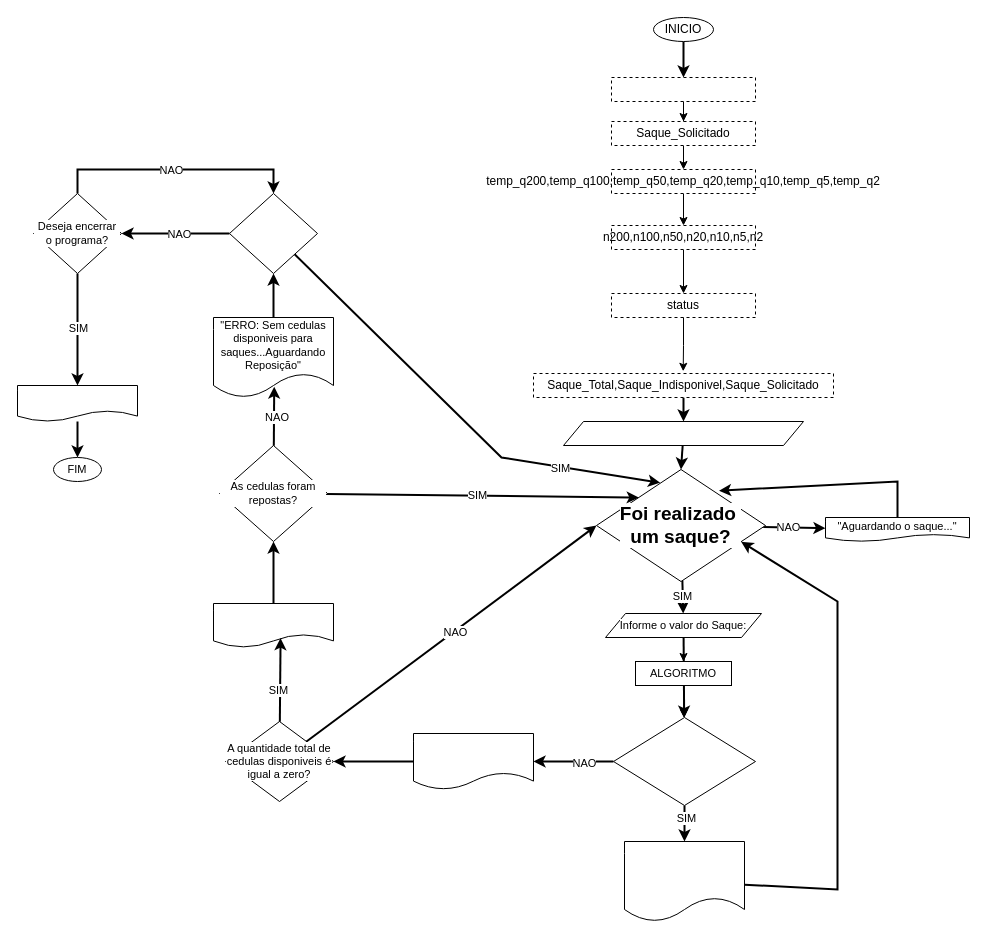
This 987x939 diagram has some shape labels left out. The shapes that lost their labels are listed below. From the top down, each one's centre as x and y in pixels, then its label:
the point at 683,89: q200,q100,q50,q20,q10,q5,q2
the point at 273,233: As cedulas foram reposidadas?
the point at 77,403: "Finalizando programa "
the point at 683,433: Informe a quantidade de cedulas disponiveis
the point at 273,625: “Reponha as Cedulas”
the point at 473,761: “Valor indisponível para saque”
the point at 684,761: Tem a quantidade de cedulas disponiveis para o saque?
the point at 684,881: "Entrega das Cedulas
